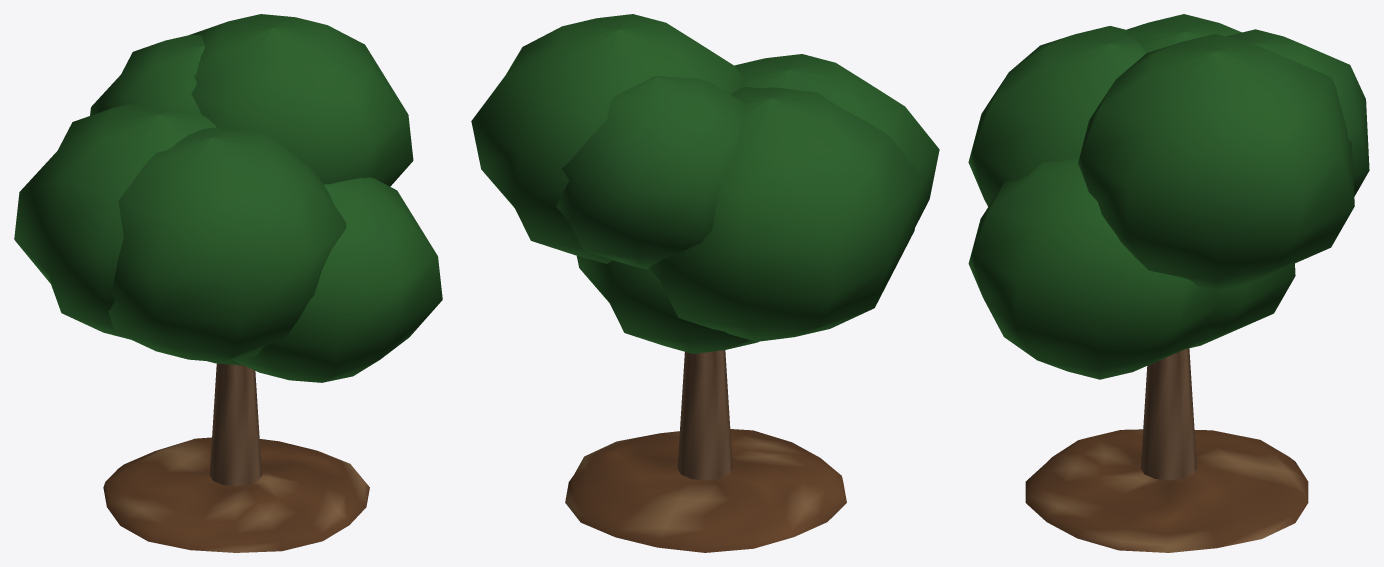
File: plant-mango-3.gltf
3 renders of one model, left to right at view 1: azimuth 30°, elevation 25°; view 2: azimuth 150°, elevation 25°; view 3: azimuth 270°, elevation 25°, orthographic. The views are drawn at different scales.
Bounding box in the file's own units: 1.92 × 2.32 × 1.79.
